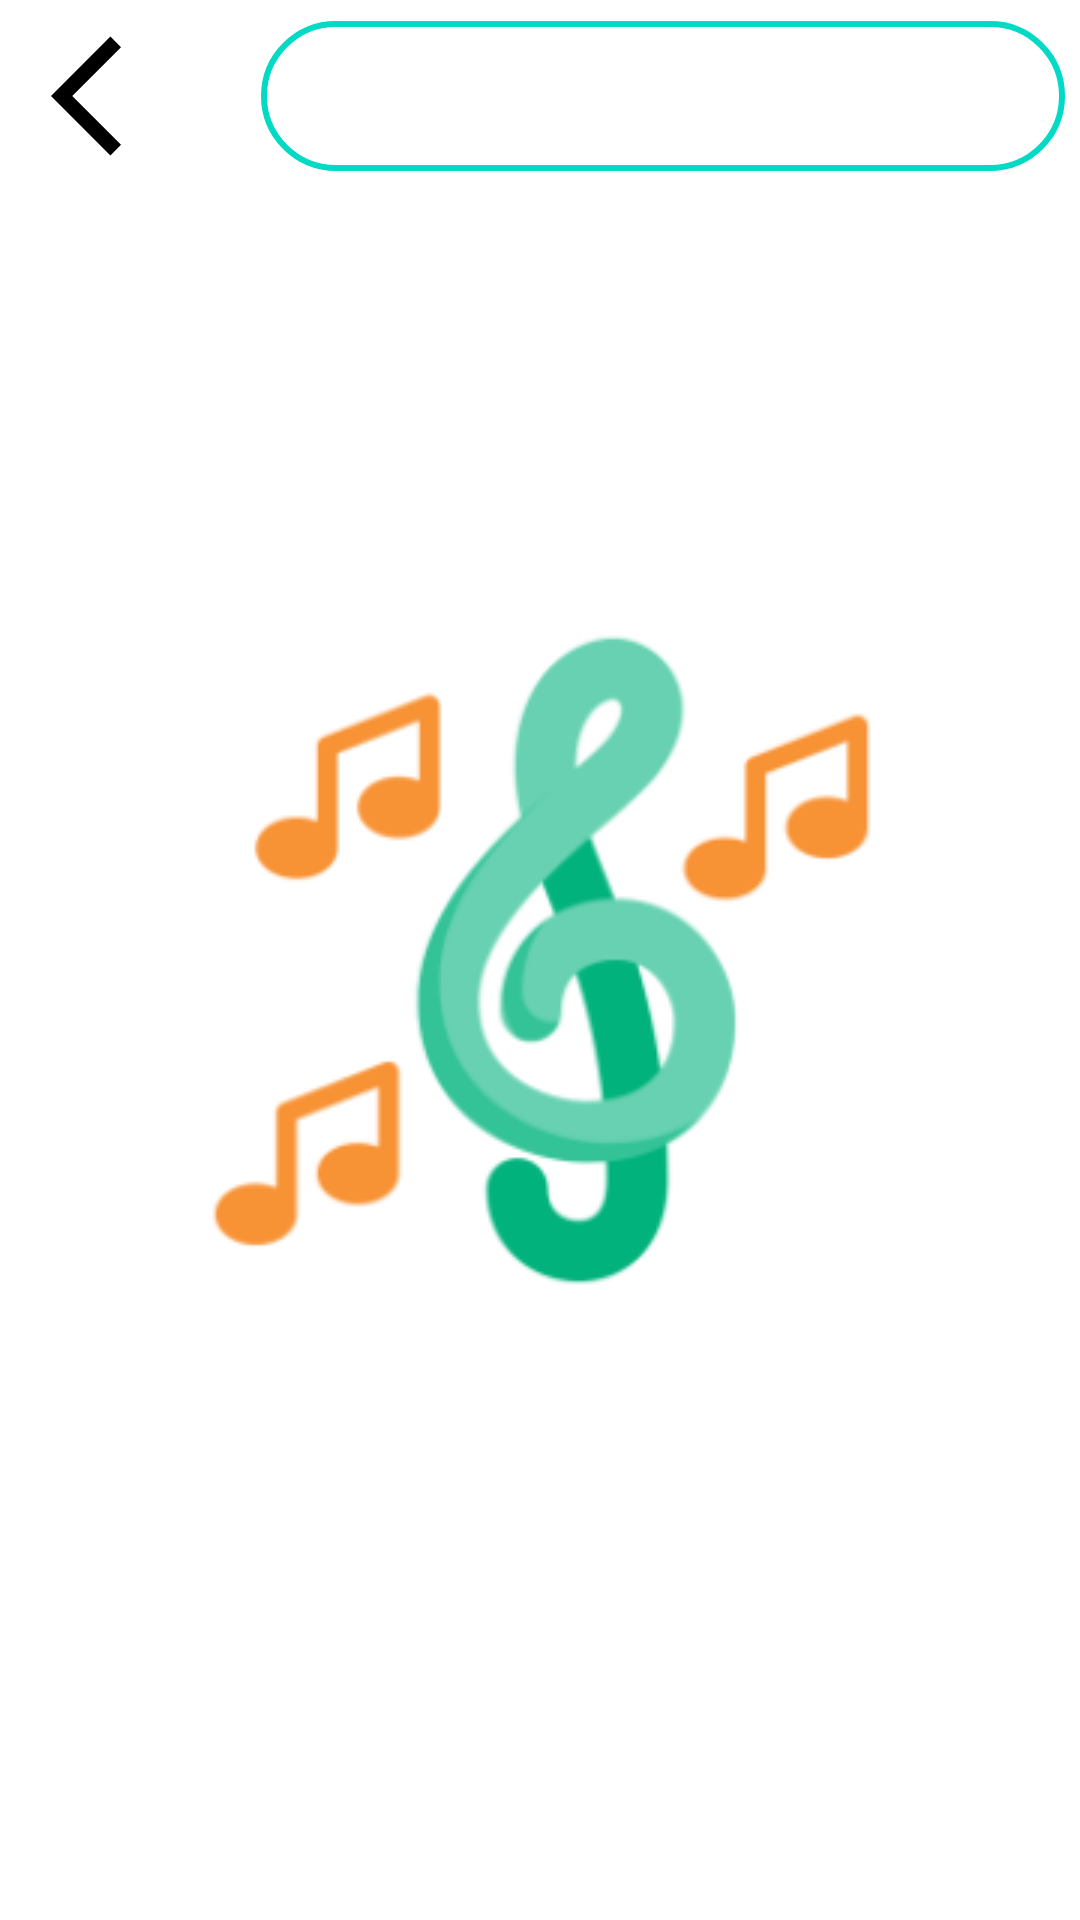

Icons on this 1080px x 1920px Android screen, each with the point to tap as point (x, y):
Back: point (86, 96)
